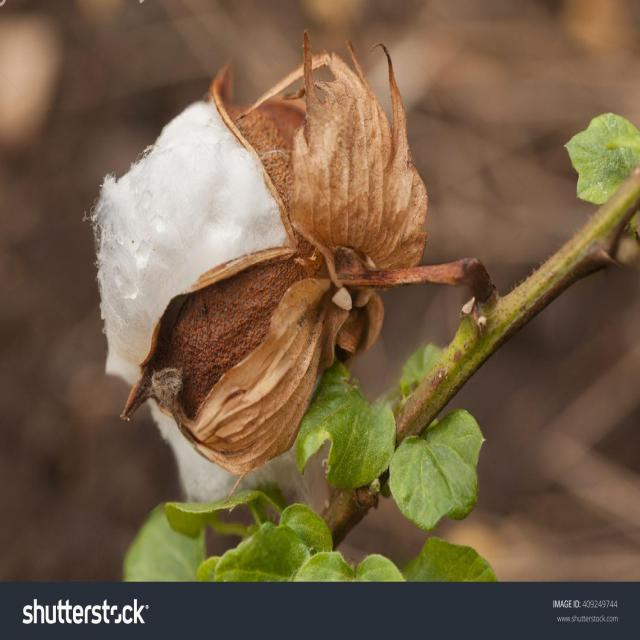Leaf: (76, 25, 505, 514)
